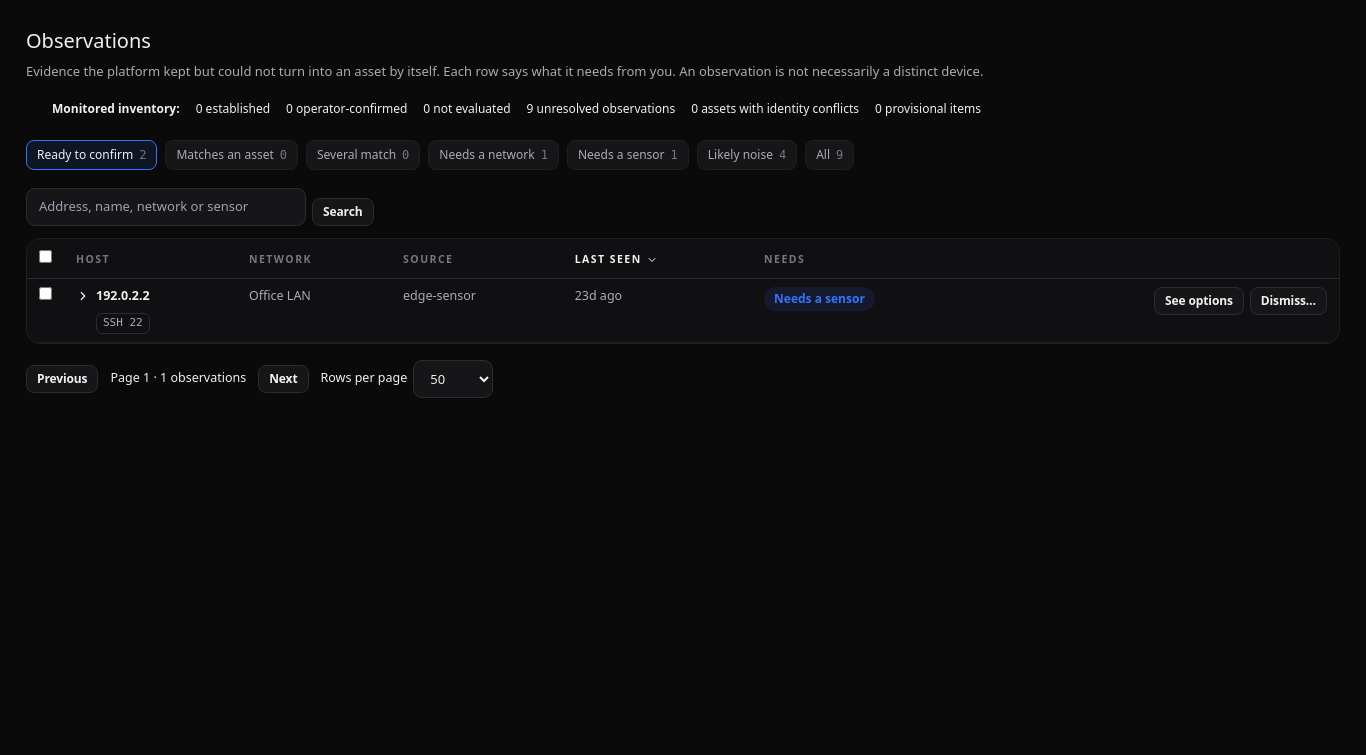
Test: what this needs › opens a sensor row on its options: a sensor, a link or a dismissal
The width and height of the screenshot is (1366, 755).
Step 1. Click the button "See options" → (1199, 301), box [1154,287,1244,315]
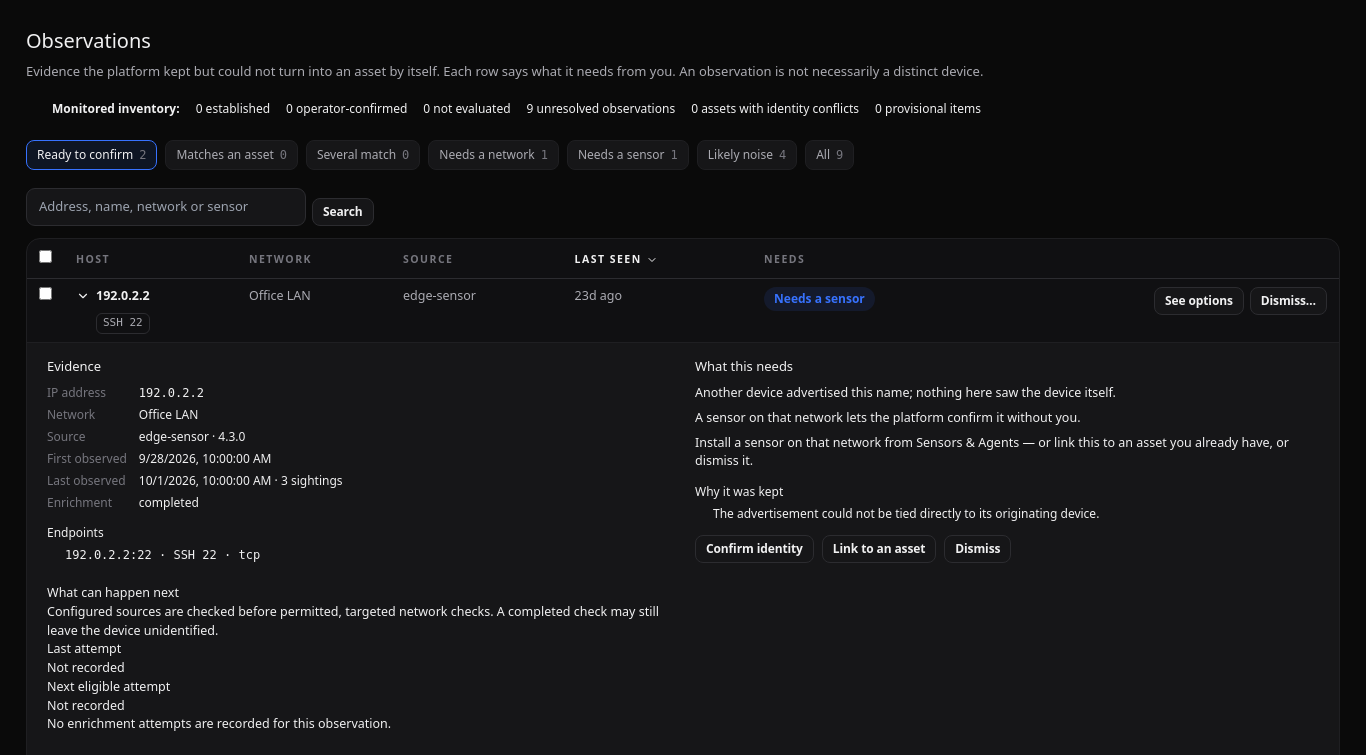
Now the element named "What this needs" shows "Another device advertised this name; nothing here saw the device itself.", box [695,384,1116,401]
Now the button "Link to an asset" is shown, box [822,535,936,563]
Now the button "Dismiss" is shown, box [944,535,1011,563]
